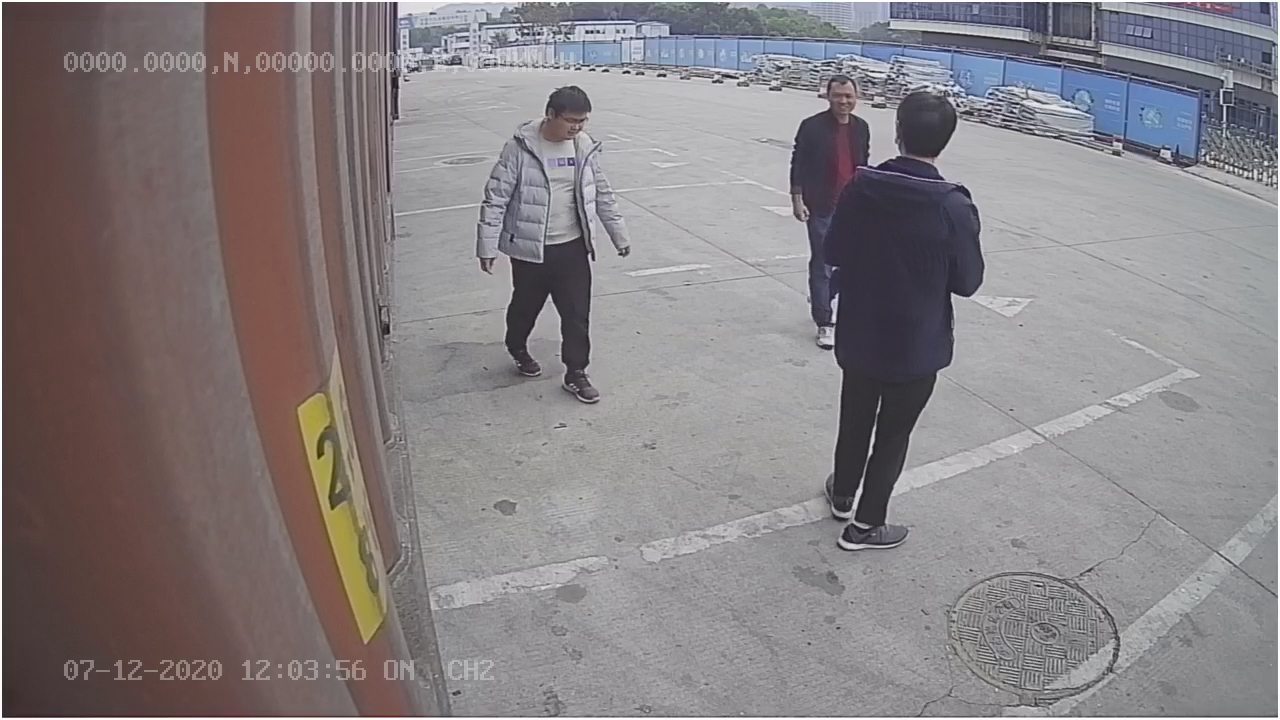person: (469, 84, 636, 406)
